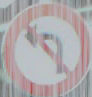Don't turn left: (10, 7, 80, 86)
